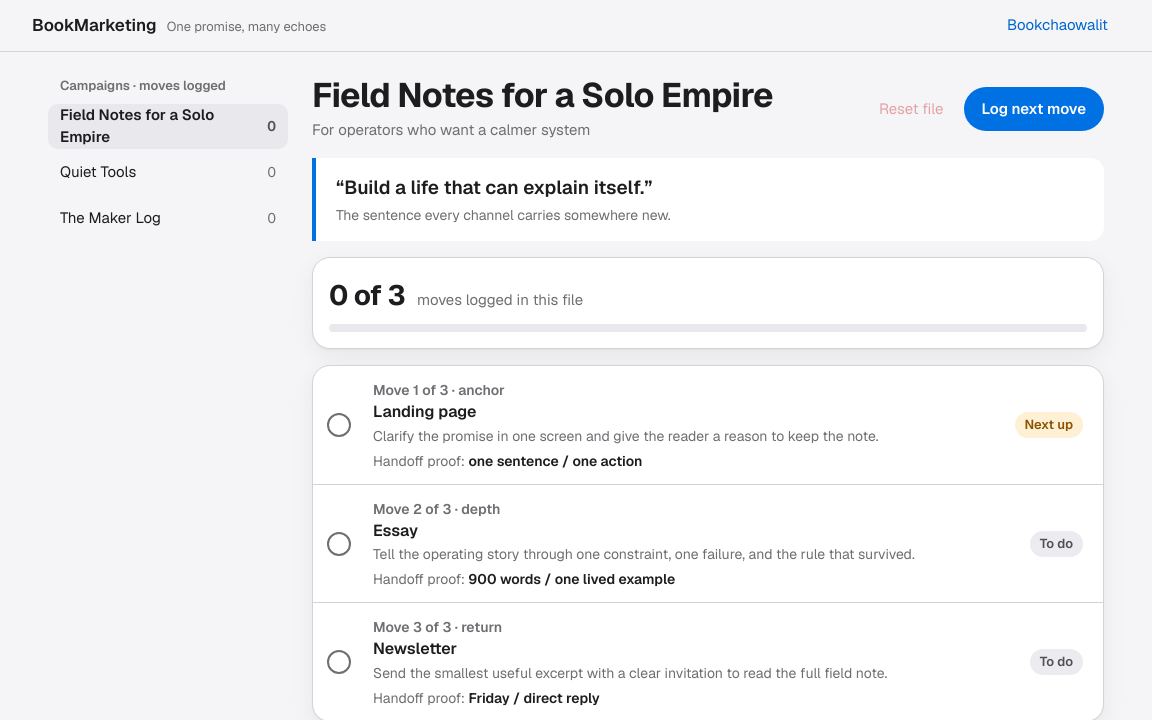
Scenario: logging moves › each campaign keeps its own progress
Click the button "Log next move". click: point(1034, 109)
box: [964, 87, 1104, 131]
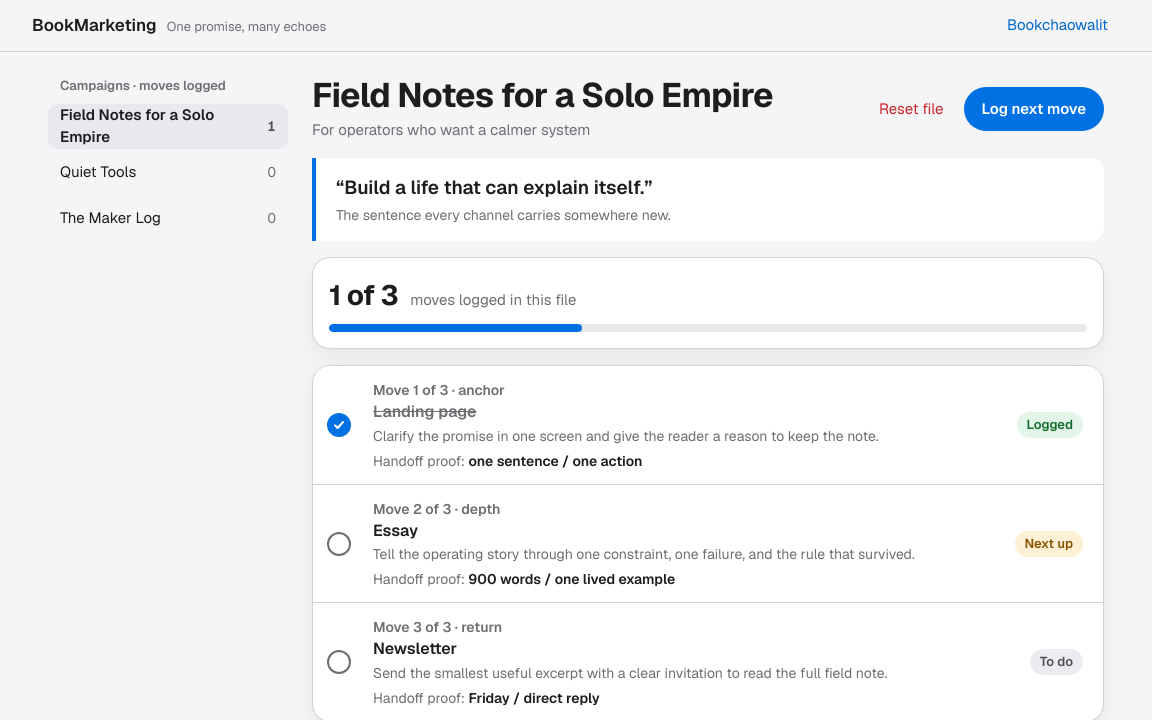
Click the button "Quiet Tools 0". click: point(168, 172)
box: [48, 150, 288, 194]
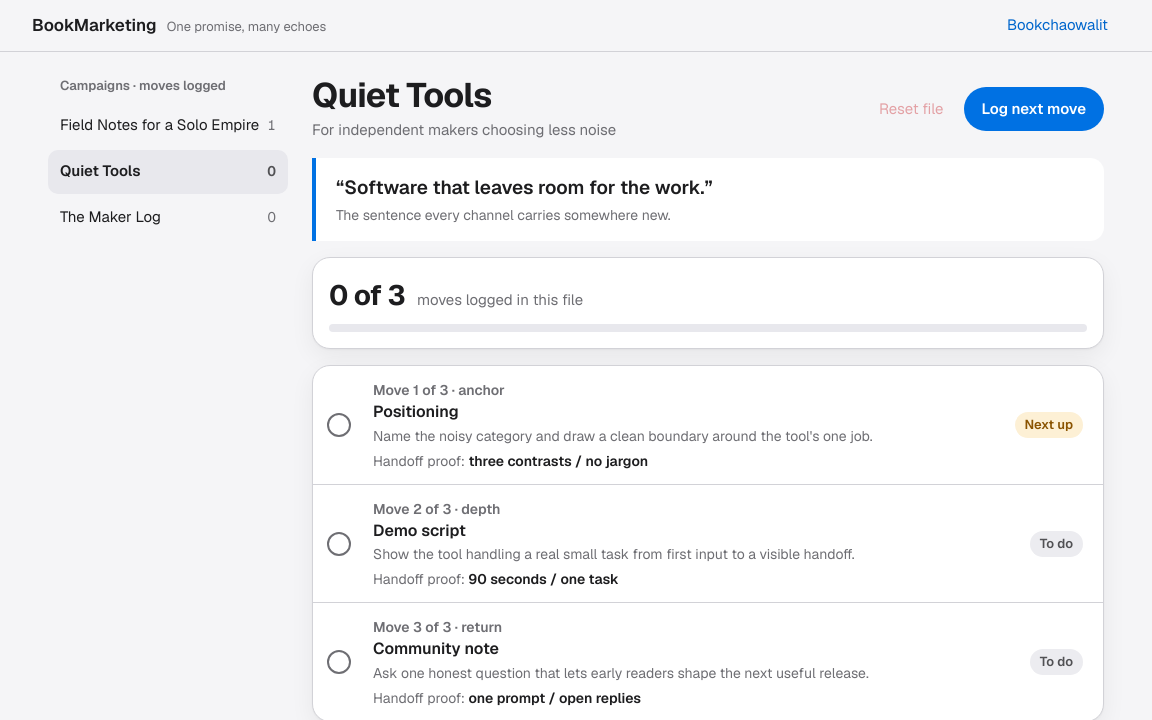
Now the heading "Quiet Tools" is shown, box [312, 73, 492, 117]
Now the text with class "as-pill" reads "Next up", box [1024, 416, 1073, 433]
Click the button "Field Notes for a Solo Empire 1". click: point(168, 126)
box: [48, 104, 288, 148]
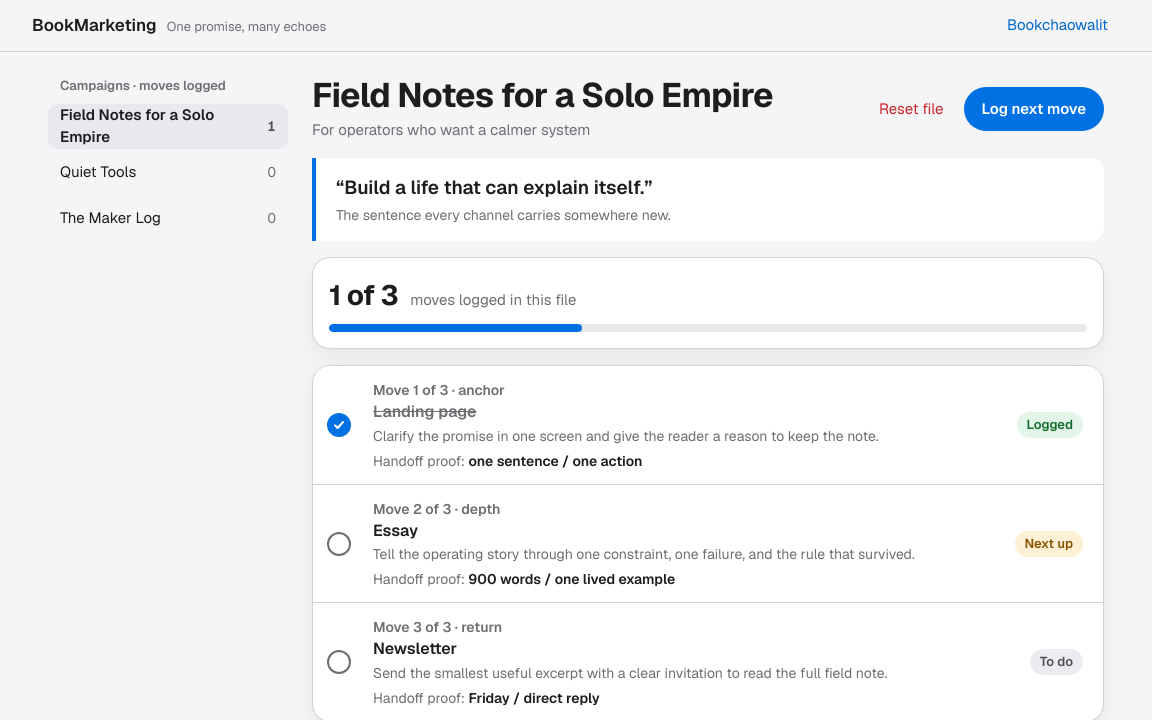
Now the text with class "as-pill" reads "Logged", box [1027, 416, 1073, 433]
